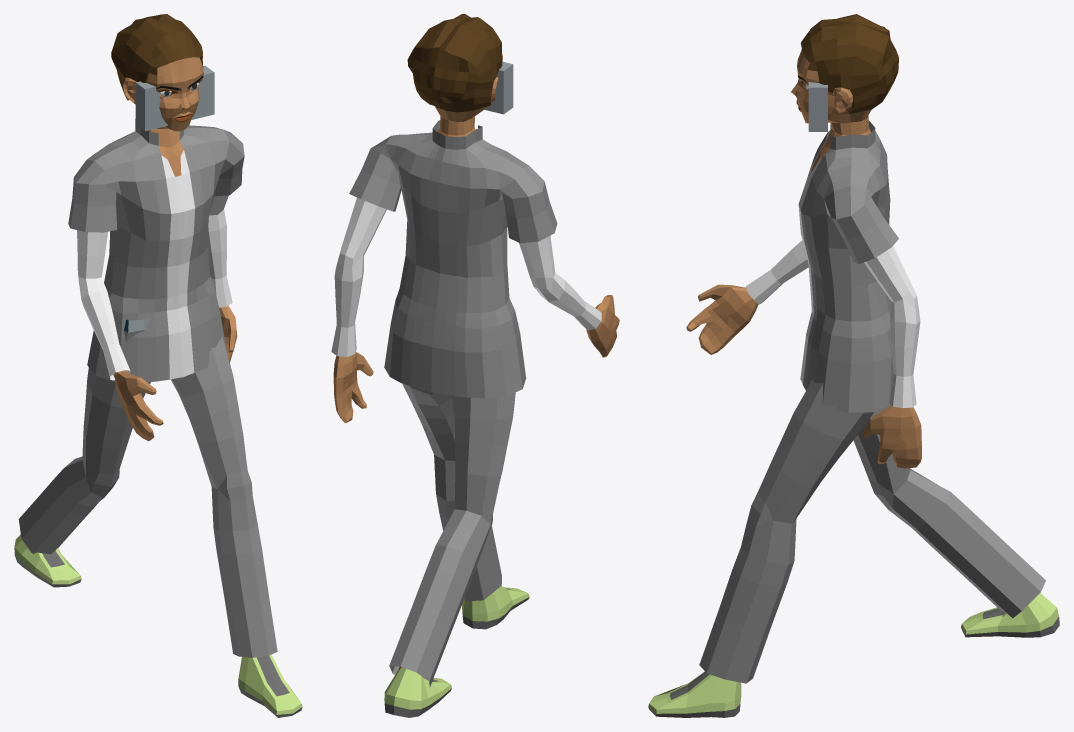
Rendered from StudentMale_Walk_Mask.fbx.
3 renders of one model, left to right at view 1: azimuth 30°, elevation 25°; view 2: azimuth 150°, elevation 25°; view 3: azimuth 270°, elevation 25°, orthographic. The views are drawn at different scales.
Visible parts, largest first — view 1: StudentMale_Walk_Mask; view 2: StudentMale_Walk_Mask; view 3: StudentMale_Walk_Mask.
Boxes of the visible parts, x1,y1,x2,y2 form: StudentMale_Walk_Mask: [14, 14, 302, 717]; StudentMale_Walk_Mask: [331, 14, 619, 717]; StudentMale_Walk_Mask: [648, 14, 1059, 717].
Bounding box in the file's own units: 0.2614 × 0.8342 × 0.4623.
